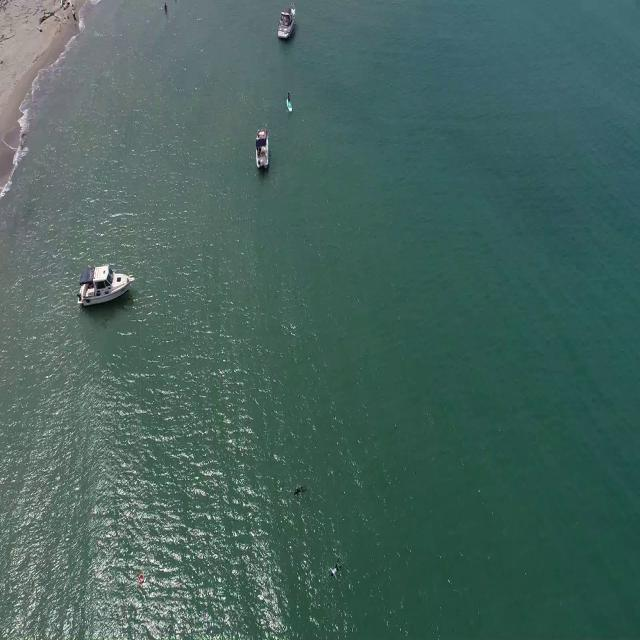boat: (78, 266, 133, 305), (277, 1, 296, 40), (255, 130, 273, 170)
life_buoy: (139, 572, 145, 585)
person: (328, 560, 344, 584), (294, 485, 308, 499), (162, 1, 170, 16), (287, 93, 293, 107)
surfboard: (284, 100, 294, 112)
